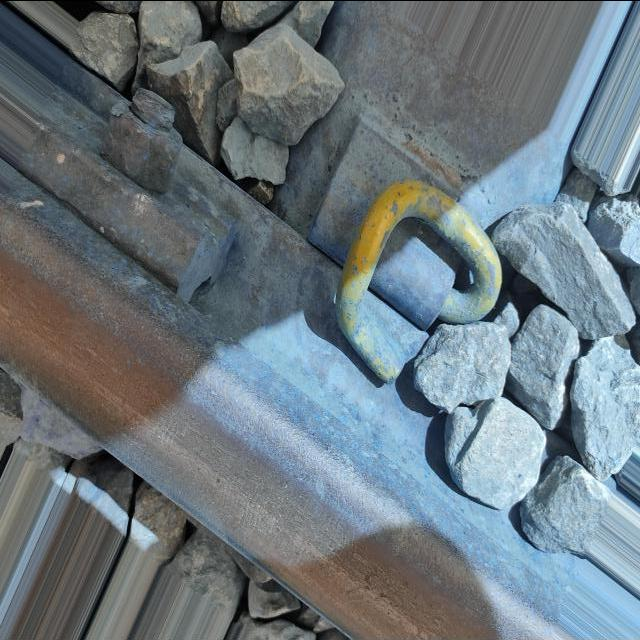broken_rail_medium: (314, 478, 330, 504)
